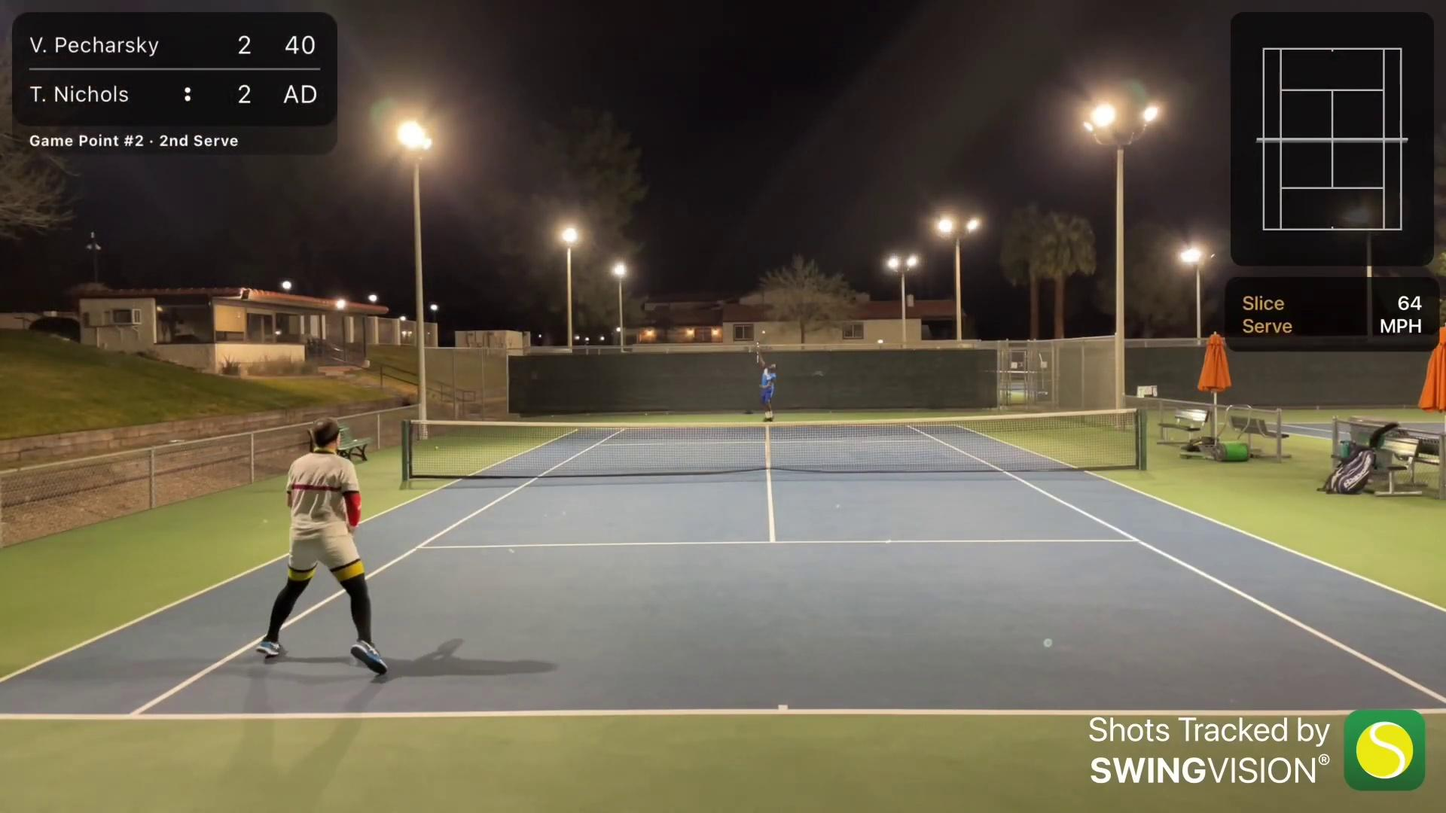ball: (765, 409, 776, 417), (758, 329, 768, 336)
